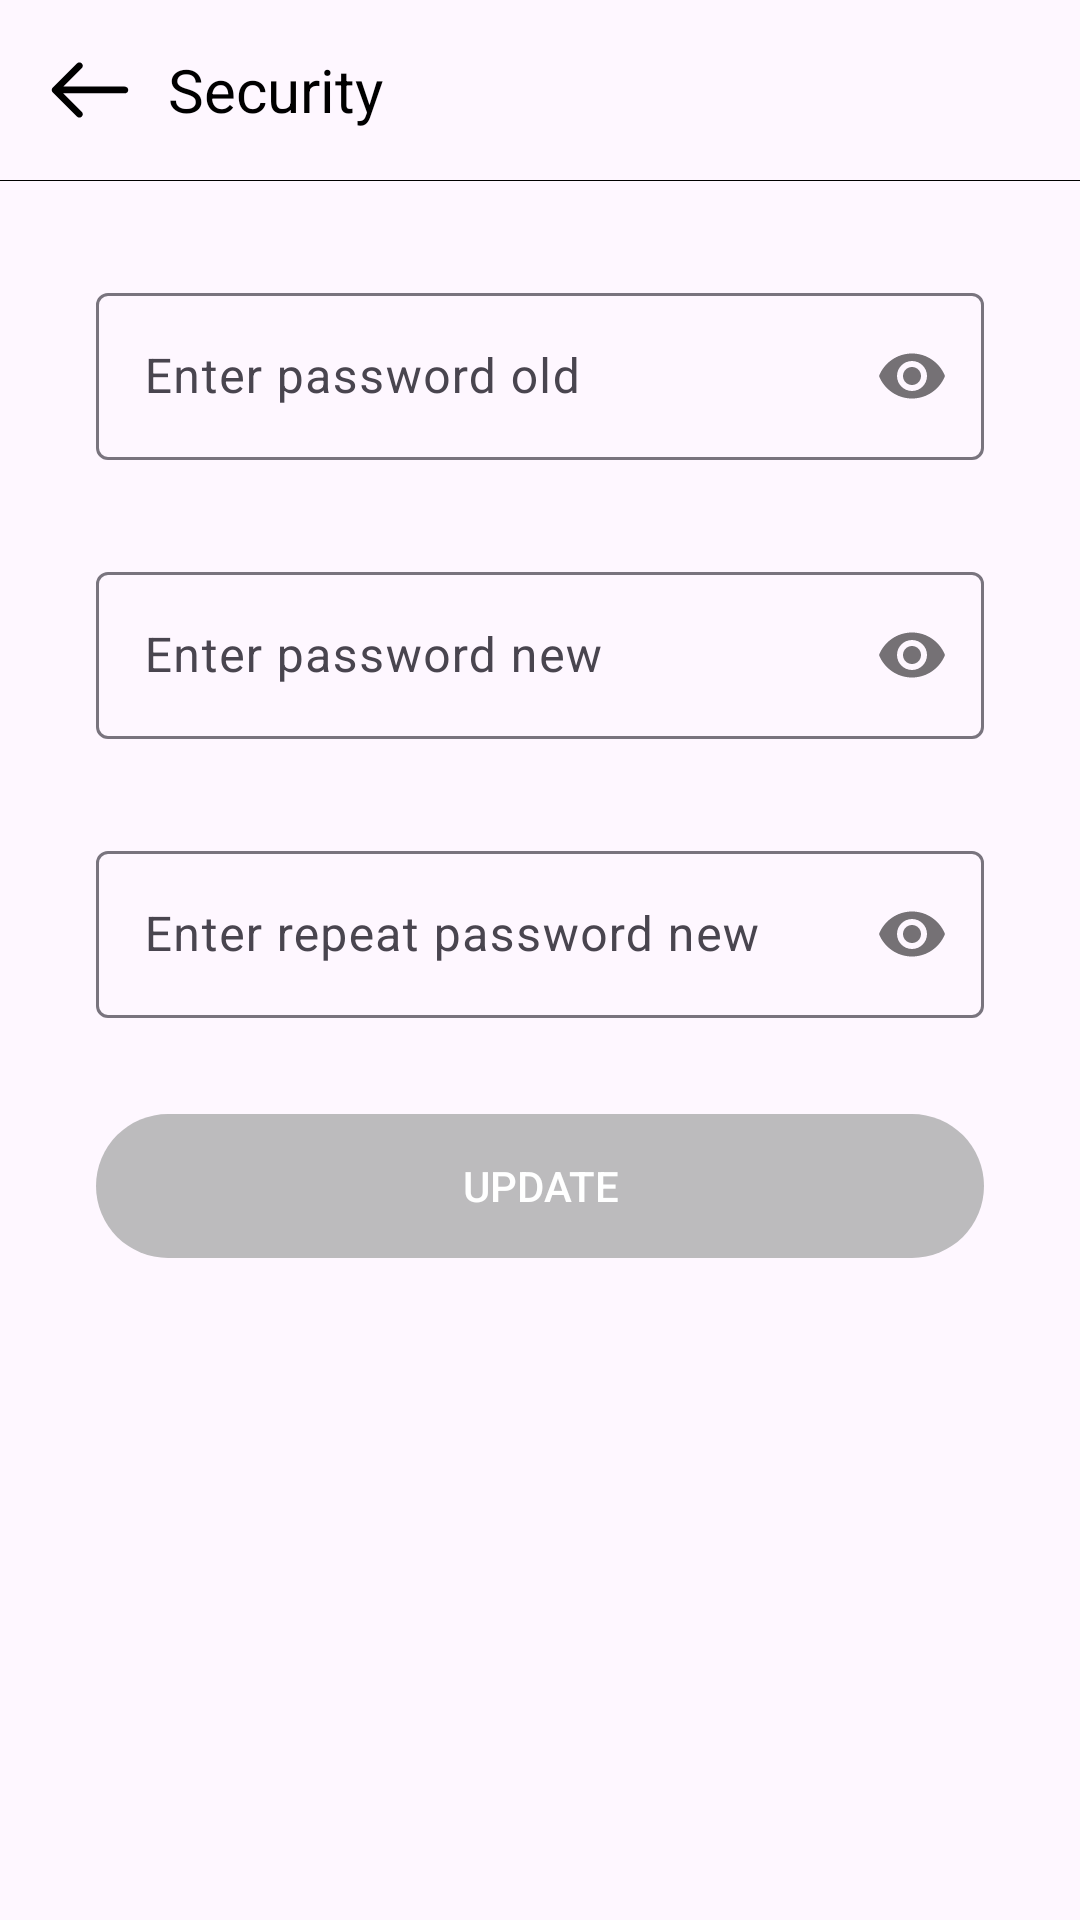

Icons on this 1080×1920 Android screen, each with the point to tap as (x=x, y=y):
back: (x=90, y=90)
